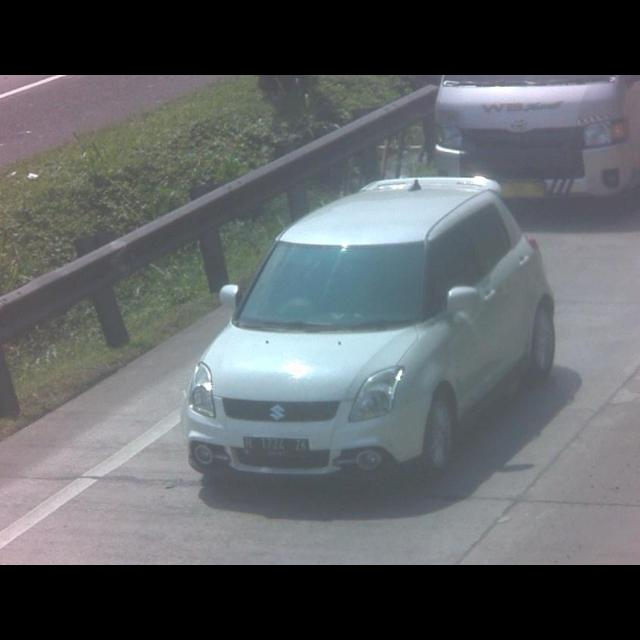plate: (241, 434, 311, 462)
